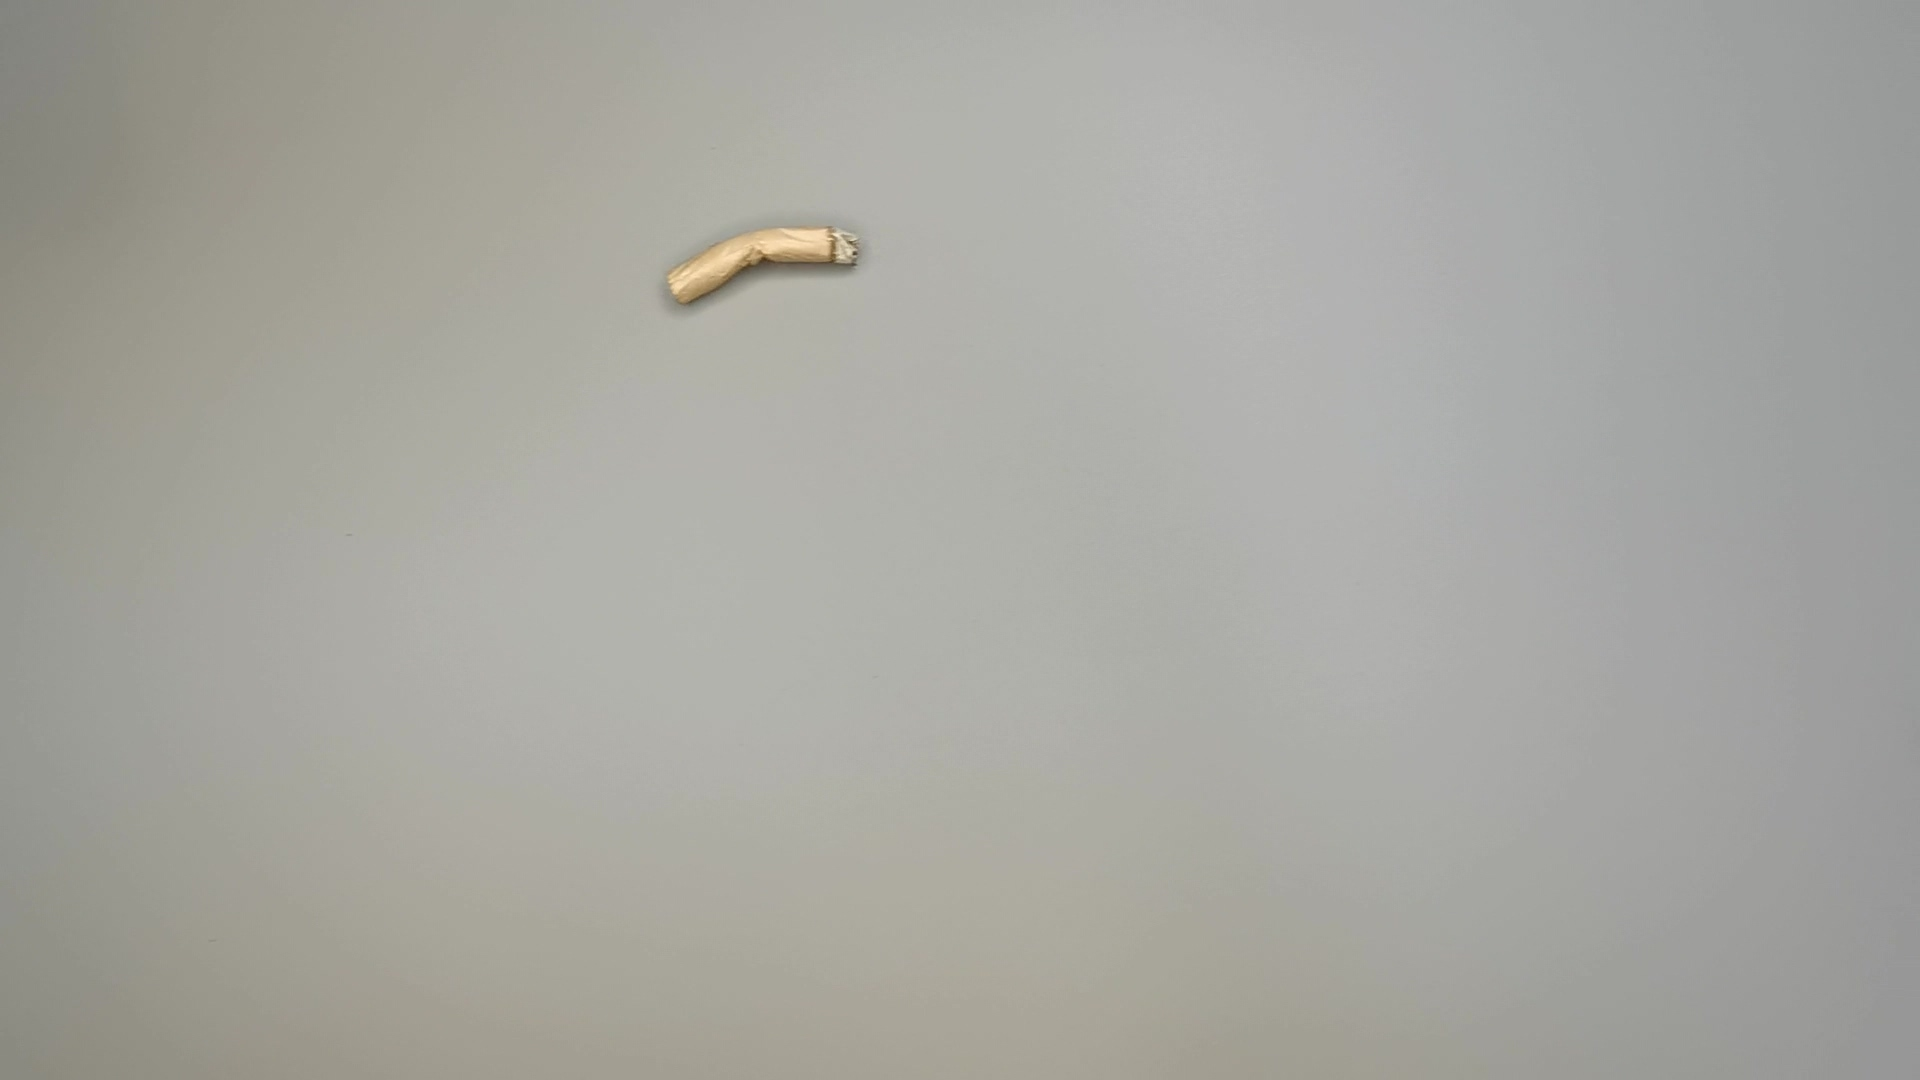cigarette: (659, 220, 870, 311)
